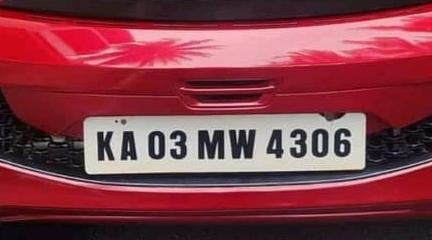0: (311, 125, 333, 162), (147, 127, 168, 161)
3: (168, 125, 190, 165), (287, 125, 309, 160)
4: (264, 126, 286, 162)
6: (332, 124, 356, 159)
A: (119, 129, 140, 165)
K: (95, 129, 117, 163)
M: (194, 126, 228, 161)
W: (226, 126, 260, 162)
